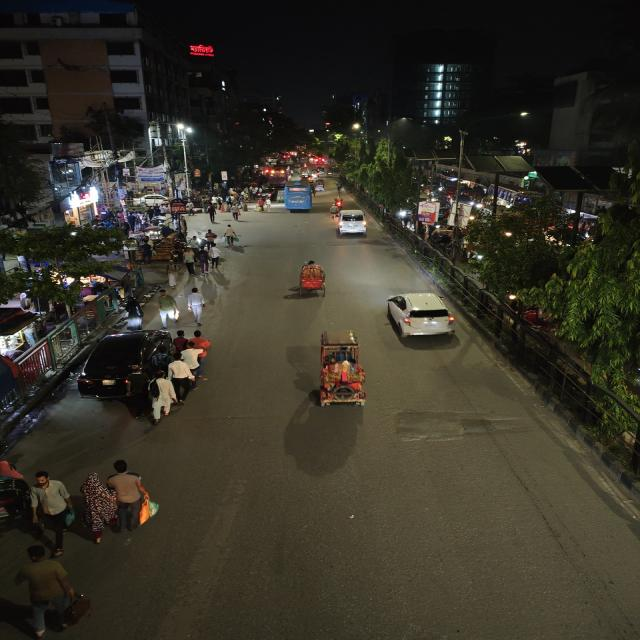bus: (280, 179, 314, 213), (268, 166, 289, 180)
car: (73, 327, 168, 401), (381, 288, 460, 344), (332, 208, 369, 240)
motorcycle: (331, 195, 346, 209)
pedestrian: (10, 543, 83, 639), (100, 457, 154, 535), (30, 466, 75, 555), (146, 373, 177, 423), (168, 355, 194, 401), (152, 287, 180, 325), (185, 287, 208, 323), (181, 247, 198, 276), (208, 244, 224, 270), (223, 227, 238, 249), (204, 201, 219, 223), (232, 208, 243, 222)
rickshaw: (310, 328, 376, 410), (0, 456, 30, 542), (292, 259, 332, 299)
